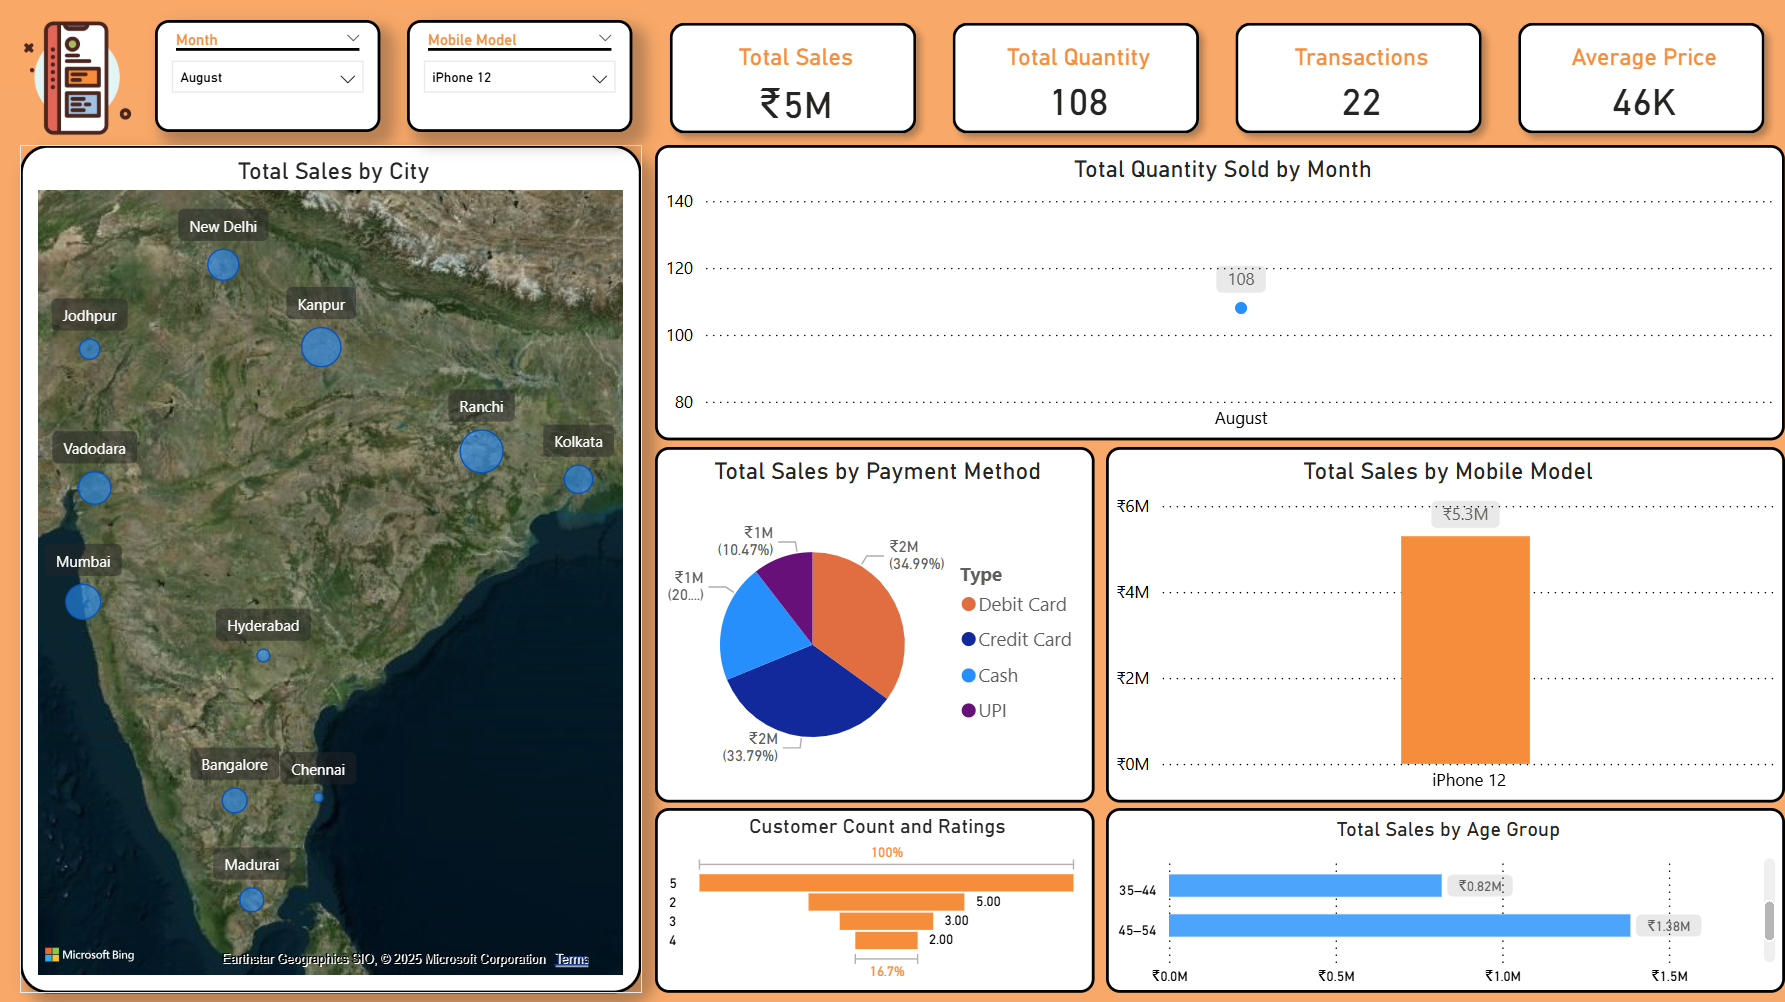

Layout of this report page (visuals, bound fields, positions):
{"tool":"powerbi","page":{"name":"Page 1","canvas":[1280,720],"ordinal":0},"visuals":[{"type":"image","box":[0,0,110.6,113],"z":0},{"type":"slicer","fields":{"Values":["Mobiles_Sales_Data.Date.Variation.Date Hierarchy.Month"]},"box":[110.6,14.7,161,79.9],"z":1000},{"type":"cardVisual","fields":{"Data":["Mobiles_Sales_Data.Total_Sales","Mobiles_Sales_Data.Total_Quantity","Mobiles_Sales_Data.Transactions","Mobiles_Sales_Data.Average"]},"box":[461.4,0,818.9,113],"z":2000},{"type":"map","fields":{"Category":["Mobiles_Sales_Data.City"],"Size":["Mobiles_Sales_Data.Total Sales"]},"box":[14.1,104.4,444.2,605.7],"z":3000},{"type":"lineChart","title":"Total Quantity Sold by Month","fields":{"Y":["Sum(Mobiles_Sales_Data.Units Sold)"],"Category":["Mobiles_Sales_Data.Date.Variation.Date Hierarchy.Month","Mobiles_Sales_Data.Date.Variation.Date Hierarchy.Day"]},"box":[467.5,104.4,807.2,211.3],"z":4000},{"type":"pieChart","fields":{"Category":["Mobiles_Sales_Data.Payment Method"],"Y":["Mobiles_Sales_Data.Total Sales"]},"box":[467.5,320.1,313.9,254.3],"z":5000},{"type":"columnChart","fields":{"Y":["Mobiles_Sales_Data.Total Sales"],"Category":["Mobiles_Sales_Data.Mobile Model"]},"box":[790,320.1,484.7,254.3],"z":6000},{"type":"slicer","fields":{"Values":["Mobiles_Sales_Data.Mobile Model"]},"box":[290.6,14.7,161,79.9],"z":7000},{"type":"funnel","title":"Customer Count and Ratings","fields":{"Category":["Mobiles_Sales_Data.Customer Ratings"],"Y":["CountNonNull(Mobiles_Sales_Data.Customer Ratings)"]},"box":[467.5,578.1,313.9,132.1],"z":8000},{"type":"barChart","fields":{"Category":["Mobiles_Sales_Data.Age Group"],"Y":["Mobiles_Sales_Data.Total Sales"]},"box":[790,577.9,485,132.1],"z":8001}]}

Visuals, with their boxes in screenshot pixels (x1, y1, x2, y2), scaled from the page's 1280x720 canvas onto the 1785x1002 screenshot:
image: bbox=[0, 0, 154, 157]
slicer - Mobiles_Sales_Data.Date.Variation.Date Hierarchy.Month: bbox=[154, 20, 379, 132]
cardVisual - Mobiles_Sales_Data.Total_Sales x Mobiles_Sales_Data.Total_Quantity: bbox=[643, 0, 1784, 157]
map - Mobiles_Sales_Data.City x Mobiles_Sales_Data.Total Sales: bbox=[20, 145, 639, 988]
"Total Quantity Sold by Month" lineChart: bbox=[652, 145, 1778, 439]
pieChart - Mobiles_Sales_Data.Payment Method x Mobiles_Sales_Data.Total Sales: bbox=[652, 445, 1090, 799]
columnChart - Mobiles_Sales_Data.Total Sales x Mobiles_Sales_Data.Mobile Model: bbox=[1102, 445, 1778, 799]
slicer - Mobiles_Sales_Data.Mobile Model: bbox=[405, 20, 630, 132]
"Customer Count and Ratings" funnel: bbox=[652, 805, 1090, 988]
barChart - Mobiles_Sales_Data.Age Group x Mobiles_Sales_Data.Total Sales: bbox=[1102, 804, 1778, 988]
